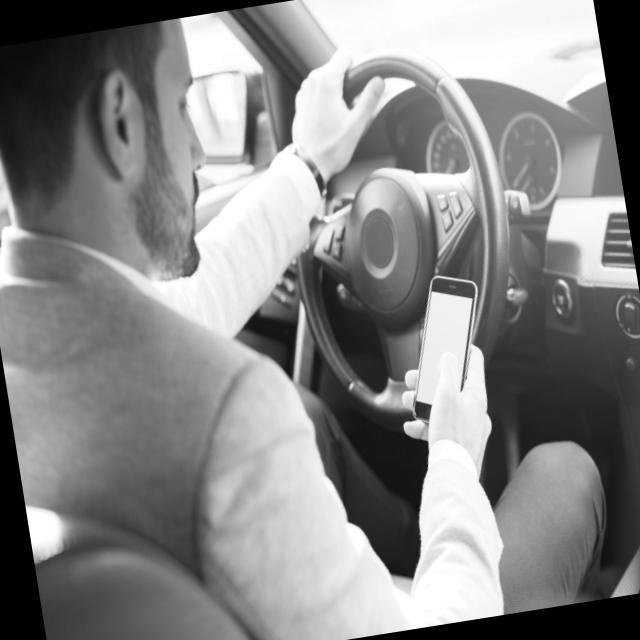phone: (392, 270, 498, 428)
